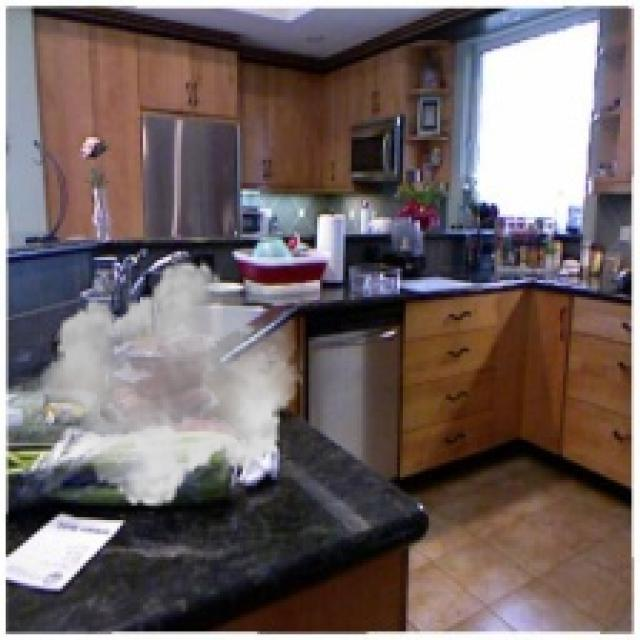smoke: (34, 252, 303, 517)
